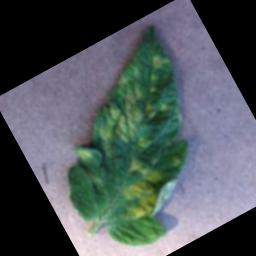Leaf_Mold: (79, 67, 170, 165), (104, 151, 176, 225)
